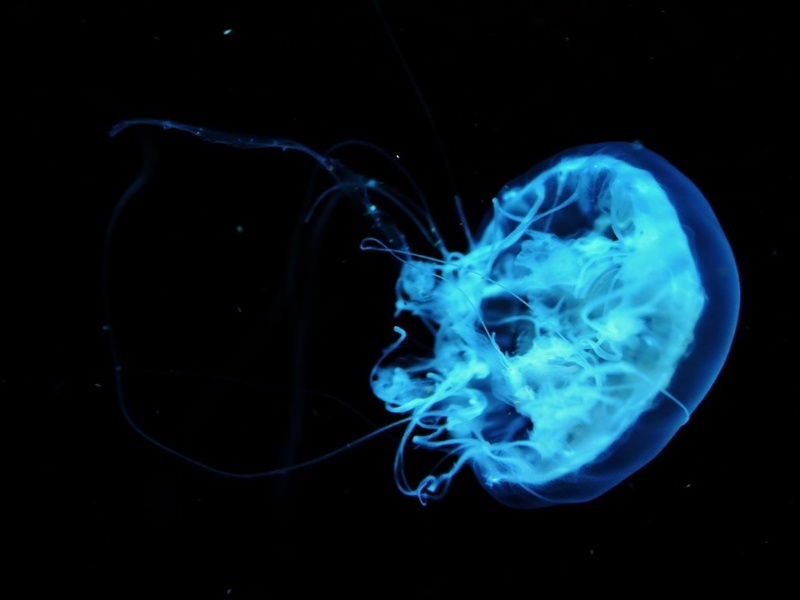Jellyfish: (111, 115, 742, 513)
